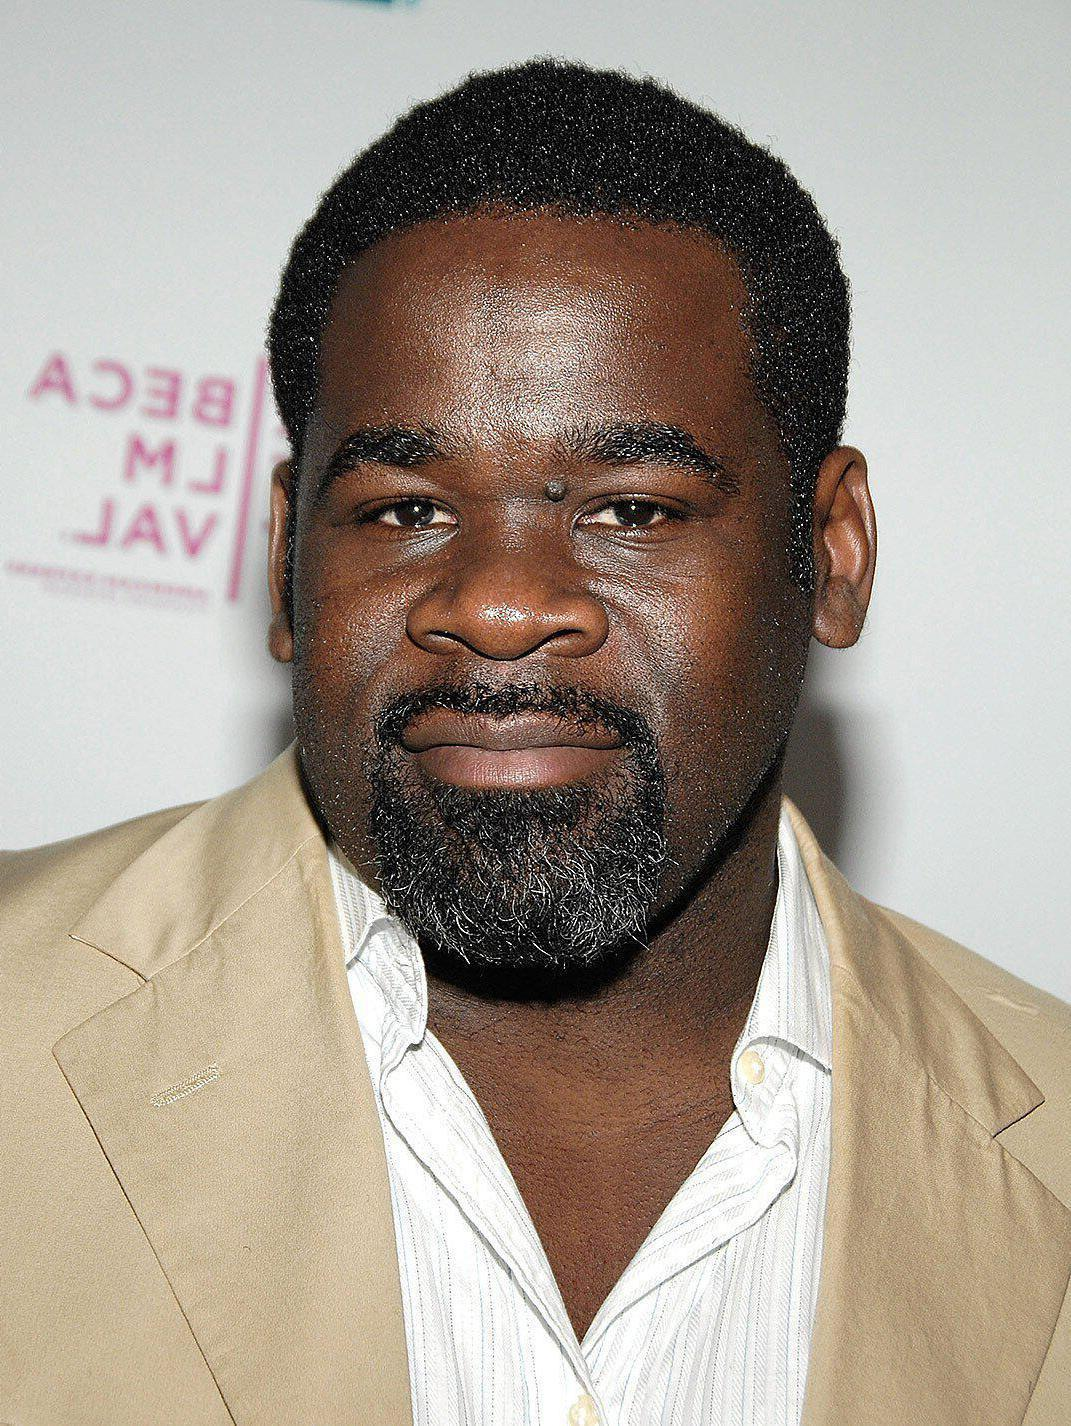Sober: (308, 261, 773, 877)
